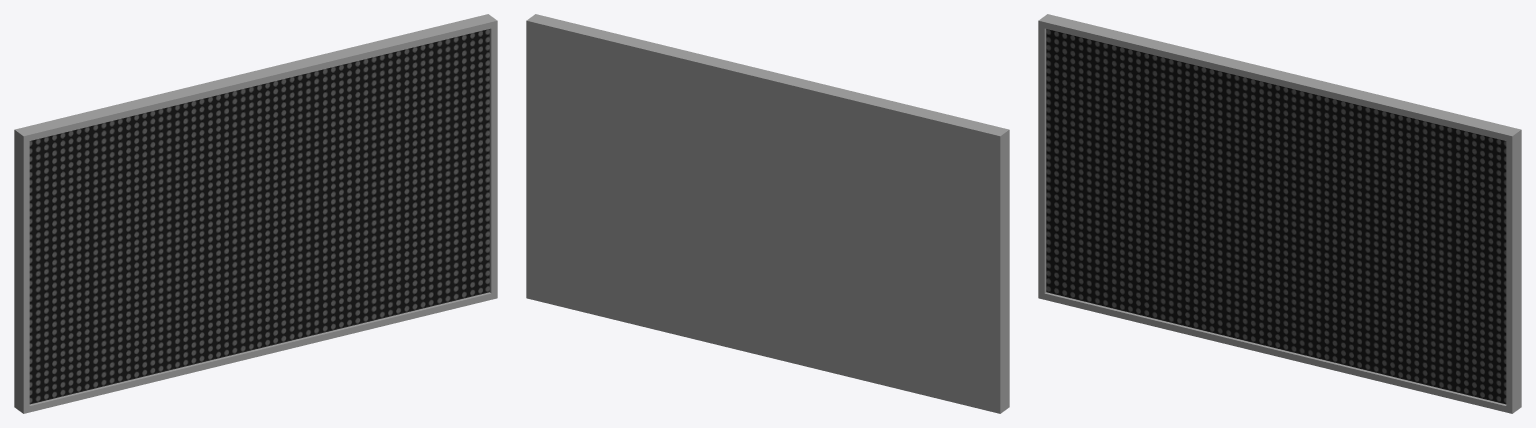
Rendered from led.gltf.
3 renders of one model, left to right at view 1: azimuth 30°, elevation 25°; view 2: azimuth 150°, elevation 25°; view 3: azimuth 330°, elevation 25°, orthographic.
Visible parts, largest first — view 1: LED_P; view 2: LED_P; view 3: LED_P.
Boxes of the visible parts, x1,y1,x2,y2 form: LED_P: (14, 14, 497, 413); LED_P: (526, 14, 1009, 413); LED_P: (1038, 14, 1521, 413).
Bounding box in the file's own units: 3 × 1.68 × 0.1.
Materials: 2 (2 with a texture image).
